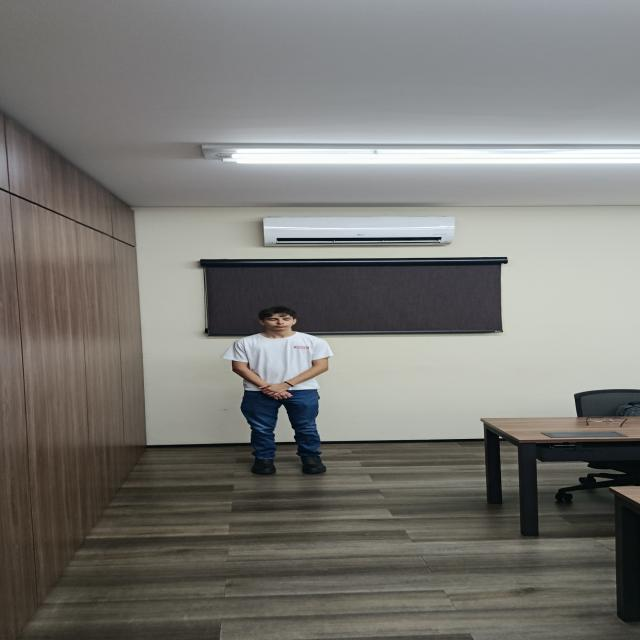sem_oculos: (259, 316, 298, 321)
